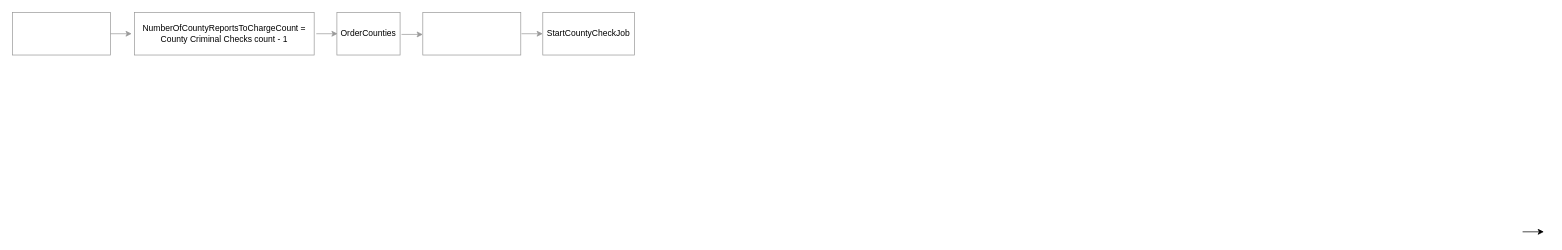
This 1562x250 diagram has some shape labels left out. Each missing label, with the centre of its shape:
County Criminal Check saved event: [471,33]
CountyAddonController invoked: [61,33]
